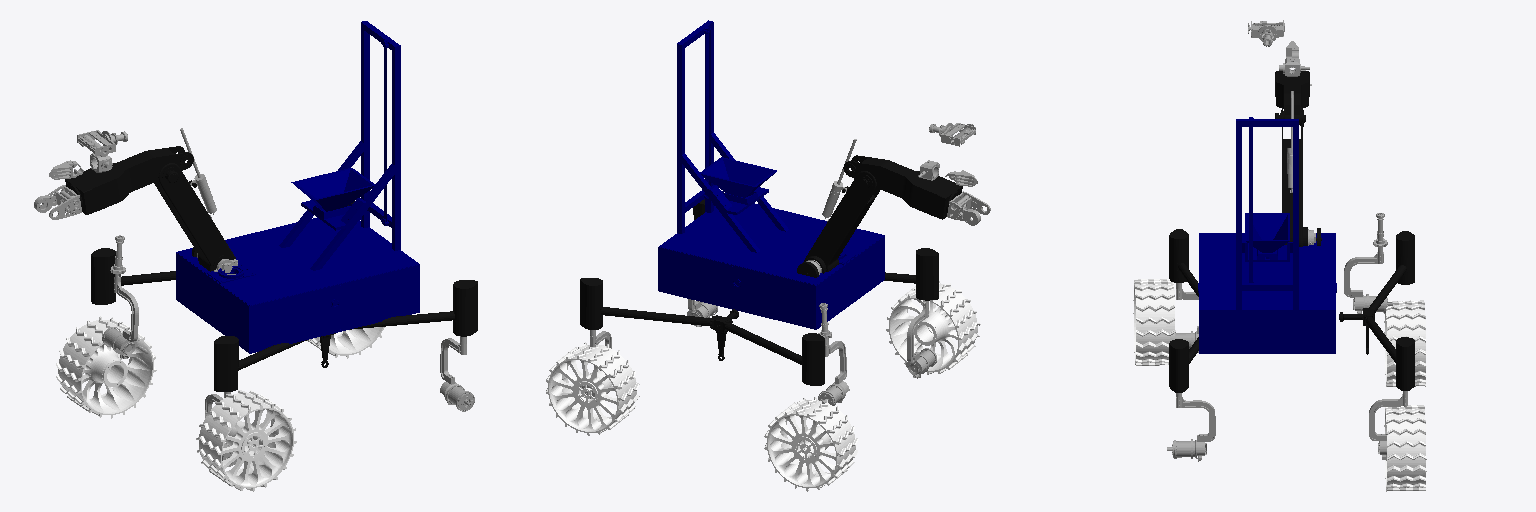
--- What the picture shows (computed from the rendered views, not written in the file) ---
The picture shows the robot from 3 angles, left to right: view 1: azimuth 30°, elevation 25°; view 2: azimuth 150°, elevation 25°; view 3: azimuth 270°, elevation 25°; orthographic projection.
Model kerby with 20 links and 19 joints (6 revolute, 10 continuous, 2 prismatic, 1 fixed), rooted at base_link, posed all joints at 0.
Visible links, largest first — view 1: base_link, wheel2_1, wheel3_1, pivot_gauche_1, hd_link3_1, hd_link2_1, pivot_droit_1, steering_4, steering_2, wheel4_1, hd_link4_1, hd_link6_1 (+1 smaller); view 2: base_link, wheel3_1, wheel4_1, wheel2_1, pivot_droit_1, hd_link3_1, hd_link2_1, pivot_gauche_1, steering_4, steering_3, hd_link4_1, hd_link6_1; view 3: base_link, wheel4_1, wheel2_1, pivot_droit_1, wheel3_1, pivot_gauche_1, hd_link2_1, steering_4, hd_link3_1, steering_2, steering_1, hd_link6_1.
Link boxes in pixels (<box>): base_link: <box>176,21,419,353</box>; wheel2_1: <box>196,390,296,491</box>; wheel3_1: <box>56,316,156,418</box>; pivot_gauche_1: <box>214,280,477,391</box>; hd_link3_1: <box>65,146,193,214</box>; hd_link2_1: <box>154,163,235,271</box>; pivot_droit_1: <box>91,201,354,304</box>; steering_4: <box>102,235,138,358</box>; steering_2: <box>440,336,474,411</box>; wheel4_1: <box>307,327,384,358</box>; hd_link4_1: <box>34,185,81,219</box>; hd_link6_1: <box>77,130,127,156</box>; base_link: <box>658,20,884,329</box>; wheel3_1: <box>764,397,858,491</box>; wheel4_1: <box>546,342,639,435</box>; wheel2_1: <box>886,281,980,374</box>; pivot_droit_1: <box>580,278,824,385</box>; hd_link3_1: <box>843,155,962,219</box>; hd_link2_1: <box>797,171,880,277</box>; pivot_gauche_1: <box>693,199,938,300</box>; steering_4: <box>818,303,849,405</box>; steering_3: <box>906,300,936,378</box>; hd_link4_1: <box>947,191,990,225</box>; hd_link6_1: <box>929,123,975,146</box>; base_link: <box>1198,117,1336,353</box>; wheel4_1: <box>1384,405,1426,491</box>; wheel2_1: <box>1133,279,1175,365</box>; pivot_droit_1: <box>1339,231,1414,390</box>; wheel3_1: <box>1384,300,1426,386</box>; pivot_gauche_1: <box>1169,229,1198,392</box>; hd_link2_1: <box>1275,107,1321,246</box>; steering_4: <box>1344,213,1392,313</box>; hd_link3_1: <box>1275,71,1309,125</box>; steering_2: <box>1167,393,1215,461</box>; steering_1: <box>1369,391,1407,460</box>; hd_link6_1: <box>1248,20,1284,46</box>.
Bounding box of the posed robot: 1.42 × 0.97 × 1.29 m (x, y, z).
Meshes: 20 distinct files referenced, 19 mesh visuals loaded (19 binary STL); not drawn: 1 (reference not matched to a file when rendering).

The robot description file, URDF, robot "kerby":
<?xml version="1.0" ?>
<!-- =================================================================================== -->
<!-- |    This document was autogenerated by xacro from kerby.urdf.xacro               | -->
<!-- |    EDITING THIS FILE BY HAND IS NOT RECOMMENDED                                 | -->
<!-- =================================================================================== -->
<robot name="kerby">
  <material name="silver">
    <color rgba="0.700 0.700 0.700 1.000"/>
  </material>
  <material name="black">
    <color rgba="0.1 0.1 0.1 1.000"/>
  </material>
  <material name="white">
    <color rgba="1 1 1 1.000"/>
  </material>
  <material name="pink">
    <!-- <color rgba="1 0.4117 0.70588 1.000"/> -->
    <color rgba="1 1 1 1.000"/>
  </material>
  <material name="blue">
    <color rgba="0 0 0.5 1.000"/>
  </material>
  <transmission name="steering1_tran">
    <type>transmission_interface/SimpleTransmission</type>
    <joint name="steering1">
      <hardwareInterface>hardware_interface/EffortJointInterface</hardwareInterface>
    </joint>
    <actuator name="steering1_actr">
      <hardwareInterface>hardware_interface/EffortJointInterface</hardwareInterface>
      <mechanicalReduction>1</mechanicalReduction>
    </actuator>
  </transmission>
  <transmission name="steering2_tran">
    <type>transmission_interface/SimpleTransmission</type>
    <joint name="steering2">
      <hardwareInterface>hardware_interface/EffortJointInterface</hardwareInterface>
    </joint>
    <actuator name="steering2_actr">
      <hardwareInterface>hardware_interface/EffortJointInterface</hardwareInterface>
      <mechanicalReduction>1</mechanicalReduction>
    </actuator>
  </transmission>
  <transmission name="steering3_tran">
    <type>transmission_interface/SimpleTransmission</type>
    <joint name="steering3">
      <hardwareInterface>hardware_interface/EffortJointInterface</hardwareInterface>
    </joint>
    <actuator name="steering3_actr">
      <hardwareInterface>hardware_interface/EffortJointInterface</hardwareInterface>
      <mechanicalReduction>1</mechanicalReduction>
    </actuator>
  </transmission>
  <transmission name="steering4_tran">
    <type>transmission_interface/SimpleTransmission</type>
    <joint name="steering4">
      <hardwareInterface>hardware_interface/EffortJointInterface</hardwareInterface>
    </joint>
    <actuator name="steering4_actr">
      <hardwareInterface>hardware_interface/EffortJointInterface</hardwareInterface>
      <mechanicalReduction>1</mechanicalReduction>
    </actuator>
  </transmission>
  <transmission name="driving4_tran">
    <type>transmission_interface/SimpleTransmission</type>
    <joint name="driving4">
      <hardwareInterface>hardware_interface/EffortJointInterface</hardwareInterface>
    </joint>
    <actuator name="driving4_actr">
      <hardwareInterface>hardware_interface/EffortJointInterface</hardwareInterface>
      <mechanicalReduction>1</mechanicalReduction>
    </actuator>
  </transmission>
  <transmission name="driving1_tran">
    <type>transmission_interface/SimpleTransmission</type>
    <joint name="driving1">
      <hardwareInterface>hardware_interface/EffortJointInterface</hardwareInterface>
    </joint>
    <actuator name="driving1_actr">
      <hardwareInterface>hardware_interface/EffortJointInterface</hardwareInterface>
      <mechanicalReduction>1</mechanicalReduction>
    </actuator>
  </transmission>
  <transmission name="driving3_tran">
    <type>transmission_interface/SimpleTransmission</type>
    <joint name="driving3">
      <hardwareInterface>hardware_interface/EffortJointInterface</hardwareInterface>
    </joint>
    <actuator name="driving3_actr">
      <hardwareInterface>hardware_interface/EffortJointInterface</hardwareInterface>
      <mechanicalReduction>1</mechanicalReduction>
    </actuator>
  </transmission>
  <transmission name="driving2_tran">
    <type>transmission_interface/SimpleTransmission</type>
    <joint name="driving2">
      <hardwareInterface>hardware_interface/EffortJointInterface</hardwareInterface>
    </joint>
    <actuator name="driving2_actr">
      <hardwareInterface>hardware_interface/EffortJointInterface</hardwareInterface>
      <mechanicalReduction>1</mechanicalReduction>
    </actuator>
  </transmission>
  <transmission name="joint2_tran">
    <type>transmission_interface/SimpleTransmission</type>
    <joint name="joint2">
      <hardwareInterface>hardware_interface/EffortJointInterface</hardwareInterface>
    </joint>
    <actuator name="joint2_actr">
      <hardwareInterface>hardware_interface/EffortJointInterface</hardwareInterface>
      <mechanicalReduction>1</mechanicalReduction>
    </actuator>
  </transmission>
  <transmission name="joint3_tran">
    <type>transmission_interface/SimpleTransmission</type>
    <joint name="joint3">
      <hardwareInterface>hardware_interface/EffortJointInterface</hardwareInterface>
    </joint>
    <actuator name="joint3_actr">
      <hardwareInterface>hardware_interface/EffortJointInterface</hardwareInterface>
      <mechanicalReduction>1</mechanicalReduction>
    </actuator>
  </transmission>
  <transmission name="joint4_tran">
    <type>transmission_interface/SimpleTransmission</type>
    <joint name="joint4">
      <hardwareInterface>hardware_interface/EffortJointInterface</hardwareInterface>
    </joint>
    <actuator name="joint4_actr">
      <hardwareInterface>hardware_interface/EffortJointInterface</hardwareInterface>
      <mechanicalReduction>1</mechanicalReduction>
    </actuator>
  </transmission>
  <transmission name="joint5_tran">
    <type>transmission_interface/SimpleTransmission</type>
    <joint name="joint5">
      <hardwareInterface>hardware_interface/EffortJointInterface</hardwareInterface>
    </joint>
    <actuator name="joint5_actr">
      <hardwareInterface>hardware_interface/EffortJointInterface</hardwareInterface>
      <mechanicalReduction>1</mechanicalReduction>
    </actuator>
  </transmission>
  <transmission name="joint6_tran">
    <type>transmission_interface/SimpleTransmission</type>
    <joint name="joint6">
      <hardwareInterface>hardware_interface/EffortJointInterface</hardwareInterface>
    </joint>
    <actuator name="joint6_actr">
      <hardwareInterface>hardware_interface/EffortJointInterface</hardwareInterface>
      <mechanicalReduction>1</mechanicalReduction>
    </actuator>
  </transmission>
  <transmission name="finger1_tran">
    <type>transmission_interface/SimpleTransmission</type>
    <joint name="finger1">
      <hardwareInterface>hardware_interface/EffortJointInterface</hardwareInterface>
    </joint>
    <actuator name="finger1_actr">
      <hardwareInterface>hardware_interface/EffortJointInterface</hardwareInterface>
      <mechanicalReduction>1</mechanicalReduction>
    </actuator>
  </transmission>
  <transmission name="finger2_tran">
    <type>transmission_interface/SimpleTransmission</type>
    <joint name="finger2">
      <hardwareInterface>hardware_interface/EffortJointInterface</hardwareInterface>
    </joint>
    <actuator name="finger2_actr">
      <hardwareInterface>hardware_interface/EffortJointInterface</hardwareInterface>
      <mechanicalReduction>1</mechanicalReduction>
    </actuator>
  </transmission>
  <transmission name="R�volution 30_tran">
    <type>transmission_interface/SimpleTransmission</type>
    <joint name="R�volution 30">
      <hardwareInterface>hardware_interface/EffortJointInterface</hardwareInterface>
    </joint>
    <actuator name="R�volution 30_actr">
      <hardwareInterface>hardware_interface/EffortJointInterface</hardwareInterface>
      <mechanicalReduction>1</mechanicalReduction>
    </actuator>
  </transmission>
  <transmission name="R�volution 31_tran">
    <type>transmission_interface/SimpleTransmission</type>
    <joint name="R�volution 31">
      <hardwareInterface>hardware_interface/EffortJointInterface</hardwareInterface>
    </joint>
    <actuator name="R�volution 31_actr">
      <hardwareInterface>hardware_interface/EffortJointInterface</hardwareInterface>
      <mechanicalReduction>1</mechanicalReduction>
    </actuator>
  </transmission>
  <transmission name="R�volution 32_tran">
    <type>transmission_interface/SimpleTransmission</type>
    <joint name="R�volution 32">
      <hardwareInterface>hardware_interface/EffortJointInterface</hardwareInterface>
    </joint>
    <actuator name="R�volution 32_actr">
      <hardwareInterface>hardware_interface/EffortJointInterface</hardwareInterface>
      <mechanicalReduction>1</mechanicalReduction>
    </actuator>
  </transmission>
  <gazebo>
    <plugin filename="libgazebo_ros_control.so" name="control"/>
  </gazebo>
  <gazebo reference="base_link">
    <material>Gazebo/Silver</material>
    <mu1>0.2</mu1>
    <mu2>0.2</mu2>
    <selfCollide>true</selfCollide>
    <gravity>true</gravity>
  </gazebo>
  <gazebo reference="steering_1">
    <material>Gazebo/Silver</material>
    <mu1>0.2</mu1>
    <mu2>0.2</mu2>
    <selfCollide>true</selfCollide>
  </gazebo>
  <gazebo reference="steering_2">
    <material>Gazebo/Silver</material>
    <mu1>0.2</mu1>
    <mu2>0.2</mu2>
    <selfCollide>true</selfCollide>
  </gazebo>
  <gazebo reference="steering_3">
    <material>Gazebo/Silver</material>
    <mu1>0.2</mu1>
    <mu2>0.2</mu2>
    <selfCollide>true</selfCollide>
  </gazebo>
  <gazebo reference="steering_4">
    <material>Gazebo/Silver</material>
    <mu1>0.2</mu1>
    <mu2>0.2</mu2>
    <selfCollide>true</selfCollide>
  </gazebo>
  <gazebo reference="wheel3_1">
    <material>Gazebo/Silver</material>
    <mu1>0.2</mu1>
    <mu2>0.2</mu2>
    <selfCollide>true</selfCollide>
  </gazebo>
  <gazebo reference="wheel4_1">
    <material>Gazebo/Silver</material>
    <mu1>0.2</mu1>
    <mu2>0.2</mu2>
    <selfCollide>true</selfCollide>
  </gazebo>
  <gazebo reference="wheel2_1">
    <material>Gazebo/Silver</material>
    <mu1>0.2</mu1>
    <mu2>0.2</mu2>
    <selfCollide>true</selfCollide>
  </gazebo>
  <gazebo reference="wheel1_1">
    <material>Gazebo/Silver</material>
    <mu1>0.2</mu1>
    <mu2>0.2</mu2>
    <selfCollide>true</selfCollide>
  </gazebo>
  <gazebo reference="hd_link2_1">
    <material>Gazebo/Silver</material>
    <mu1>0.2</mu1>
    <mu2>0.2</mu2>
    <selfCollide>true</selfCollide>
  </gazebo>
  <gazebo reference="hd_link3_1">
    <material>Gazebo/Silver</material>
    <mu1>0.2</mu1>
    <mu2>0.2</mu2>
    <selfCollide>true</selfCollide>
  </gazebo>
  <gazebo reference="hd_link4_1">
    <material>Gazebo/Silver</material>
    <mu1>0.2</mu1>
    <mu2>0.2</mu2>
    <selfCollide>true</selfCollide>
  </gazebo>
  <gazebo reference="hd_link5_1">
    <material>Gazebo/Silver</material>
    <mu1>0.2</mu1>
    <mu2>0.2</mu2>
    <selfCollide>true</selfCollide>
  </gazebo>
  <gazebo reference="hd_link6_1">
    <material>Gazebo/Silver</material>
    <mu1>0.2</mu1>
    <mu2>0.2</mu2>
    <selfCollide>true</selfCollide>
  </gazebo>
  <gazebo reference="hd_finger2_1">
    <material>Gazebo/Silver</material>
    <mu1>0.2</mu1>
    <mu2>0.2</mu2>
    <selfCollide>true</selfCollide>
  </gazebo>
  <gazebo reference="hd_finger1_1">
    <material>Gazebo/Silver</material>
    <mu1>0.2</mu1>
    <mu2>0.2</mu2>
    <selfCollide>true</selfCollide>
  </gazebo>
  <gazebo reference="hd_motor_j3_1">
    <material>Gazebo/Silver</material>
    <mu1>0.2</mu1>
    <mu2>0.2</mu2>
    <selfCollide>true</selfCollide>
  </gazebo>
  <gazebo reference="pivot_droit_1">
    <material>Gazebo/Silver</material>
    <mu1>0.2</mu1>
    <mu2>0.2</mu2>
    <selfCollide>true</selfCollide>
  </gazebo>
  <gazebo reference="pivot_gauche_1">
    <material>Gazebo/Silver</material>
    <mu1>0.2</mu1>
    <mu2>0.2</mu2>
    <selfCollide>true</selfCollide>
  </gazebo>
  <gazebo reference="hd_link1_1">
    <material>Gazebo/Silver</material>
    <mu1>0.2</mu1>
    <mu2>0.2</mu2>
    <selfCollide>true</selfCollide>
  </gazebo>
  <!-- allows to scale all max velocities down at once -->
  <link name="base_link">
    <inertial>
      <origin rpy="0 0 0" xyz="0.05362398614035063 0.01974617698532859 0.037120813316089823"/>
      <mass value="6.257043020156179"/>
      <inertia ixx="0.340644" ixy="0.000337" ixz="-0.092411" iyy="0.466541" iyz="0.00055" izz="0.402706"/>
    </inertial>
    <visual>
      <origin rpy="0 0 0" xyz="0 0 0"/>
      <geometry>
        <mesh filename="package://kerby_description/meshes/base_link.stl" scale="0.001 0.001 0.001"/>
      </geometry>
      <material name="blue"/>
    </visual>
    <collision>
      <origin rpy="0 0 0" xyz="0 0 0"/>
      <geometry>
        <mesh filename="package://kerby_description/meshes/base_link.stl" scale="0.001 0.001 0.001"/>
      </geometry>
    </collision>
  </link>
  <link name="steering_1">
    <inertial>
      <origin rpy="0 0 0" xyz="-0.01189644601781037 -0.036027929982466456 -0.2129618322901442"/>
      <mass value="0.3543584805415501"/>
      <inertia ixx="0.003558" ixy="2e-06" ixz="-0.000178" iyy="0.003121" iyz="-0.000206" izz="0.000562"/>
    </inertial>
    <visual>
      <origin rpy="0 0 0" xyz="-0.421384 -0.393882 0.063562"/>
      <geometry>
        <mesh filename="package://kerby_description/meshes/steering_1.stl" scale="0.001 0.001 0.001"/>
      </geometry>
      <material name="silver"/>
    </visual>
    <collision>
      <origin rpy="0 0 0" xyz="-0.421384 -0.393882 0.063562"/>
      <geometry>
        <mesh filename="package://kerby_description/meshes/steering_1.stl" scale="0.001 0.001 0.001"/>
      </geometry>
    </collision>
  </link>
  <link name="steering_2">
    <inertial>
      <origin rpy="0 0 0" xyz="0.011896575272170529 0.03602765244982159 -0.21296112839152875"/>
      <mass value="0.3543584805415501"/>
      <inertia ixx="0.003558" ixy="2e-06" ixz="0.000178" iyy="0.003121" iyz="0.000206" izz="0.000562"/>
    </inertial>
    <visual>
      <origin rpy="0 0 0" xyz="-0.42341 0.353934 0.012408"/>
      <geometry>
        <mesh filename="package://kerby_description/meshes/steering_2.stl" scale="0.001 0.001 0.001"/>
      </geometry>
      <material name="silver"/>
    </visual>
    <collision>
      <origin rpy="0 0 0" xyz="-0.42341 0.353934 0.012408"/>
      <geometry>
        <mesh filename="package://kerby_description/meshes/steering_2.stl" scale="0.001 0.001 0.001"/>
      </geometry>
    </collision>
  </link>
  <link name="steering_3">
    <inertial>
      <origin rpy="0 0 0" xyz="0.011896795779964109 0.03602765244982109 -0.21296183229014454"/>
      <mass value="0.3543584805415501"/>
      <inertia ixx="0.003558" ixy="2e-06" ixz="0.000178" iyy="0.003121" iyz="0.000206" izz="0.000562"/>
    </inertial>
    <visual>
      <origin rpy="0 0 0" xyz="0.408171 0.353934 0.063562"/>
      <geometry>
        <mesh filename="package://kerby_description/meshes/steering_3.stl" scale="0.001 0.001 0.001"/>
      </geometry>
      <material name="silver"/>
    </visual>
    <collision>
      <origin rpy="0 0 0" xyz="0.408171 0.353934 0.063562"/>
      <geometry>
        <mesh filename="package://kerby_description/meshes/steering_3.stl" scale="0.001 0.001 0.001"/>
      </geometry>
    </collision>
  </link>
  <link name="steering_4">
    <inertial>
      <origin rpy="0 0 0" xyz="-0.011896225510015512 -0.036027929982466234 -0.21296112839152861"/>
      <mass value="0.3543584805415501"/>
      <inertia ixx="0.003558" ixy="2e-06" ixz="-0.000178" iyy="0.003121" iyz="-0.000206" izz="0.000562"/>
    </inertial>
    <visual>
      <origin rpy="0 0 0" xyz="0.410197 -0.393882 0.012408"/>
      <geometry>
        <mesh filename="package://kerby_description/meshes/steering_4.stl" scale="0.001 0.001 0.001"/>
      </geometry>
      <material name="silver"/>
    </visual>
    <collision>
      <origin rpy="0 0 0" xyz="0.410197 -0.393882 0.012408"/>
      <geometry>
        <mesh filename="package://kerby_description/meshes/steering_4.stl" scale="0.001 0.001 0.001"/>
      </geometry>
    </collision>
  </link>
  <link name="wheel3_1">
    <inertial>
      <origin rpy="0 0 0" xyz="0.0003394916280188287 -0.010196510227617639 -2.006330920018007e-05"/>
      <mass value="1.592763813314383"/>
      <inertia ixx="0.010896" ixy="-0.000257" ixz="-0.0" iyy="0.018605" iyz="1.6e-05" izz="0.010887"/>
    </inertial>
    <visual>
      <origin rpy="0 0 0" xyz="0.42733 -0.410572 0.281864"/>
      <geometry>
        <mesh filename="package://kerby_description/meshes/wheel3_1.stl" scale="0.001 0.001 0.001"/>
      </geometry>
      <material name="pink"/>
    </visual>
    <collision>
      <origin rpy="0 0 0" xyz="0.42733 -0.410572 0.281864"/>
      <geometry>
        <mesh filename="package://kerby_description/meshes/wheel3_1.stl" scale="0.001 0.001 0.001"/>
      </geometry>
    </collision>
  </link>
  <link name="wheel4_1">
    <inertial>
      <origin rpy="0 0 0" xyz="0.0003392711202230836 -0.010196510227618527 -1.9767207815879484e-05"/>
      <mass value="1.592763813314383"/>
      <inertia ixx="0.010896" ixy="-0.000257" ixz="-0.0" iyy="0.018605" iyz="1.6e-05" izz="0.010887"/>
    </inertial>
    <visual>
      <origin rpy="0 0 0" xyz="-0.404251 -0.410572 0.333019"/>
      <geometry>
        <mesh filename="package://kerby_description/meshes/wheel4_1.stl" scale="0.001 0.001 0.001"/>
      </geometry>
      <material name="pink"/>
    </visual>
    <collision>
      <origin rpy="0 0 0" xyz="-0.404251 -0.410572 0.333019"/>
      <geometry>
        <mesh filename="package://kerby_description/meshes/wheel4_1.stl" scale="0.001 0.001 0.001"/>
      </geometry>
    </collision>
  </link>
  <link name="wheel2_1">
    <inertial>
      <origin rpy="0 0 0" xyz="-0.0003399213580693172 0.010197232694972913 -1.9767207816323573e-05"/>
      <mass value="1.592763813314383"/>
      <inertia ixx="0.010896" ixy="-0.000257" ixz="0.0" iyy="0.018605" iyz="-1.6e-05" izz="0.010887"/>
    </inertial>
    <visual>
      <origin rpy="0 0 0" xyz="0.391037 0.370625 0.333019"/>
      <geometry>
        <mesh filename="package://kerby_description/meshes/wheel2_1.stl" scale="0.001 0.001 0.001"/>
      </geometry>
      <material name="pink"/>
    </visual>
    <collision>
      <origin rpy="0 0 0" xyz="0.391037 0.370625 0.333019"/>
      <geometry>
        <mesh filename="package://kerby_description/meshes/wheel2_1.stl" scale="0.001 0.001 0.001"/>
      </geometry>
    </collision>
  </link>
  <link name="wheel1_1">
    <inertial>
      <origin rpy="0 0 0" xyz="-0.0003391418658636458 0.010197232694973468 -2.0063309200568646e-05"/>
      <mass value="1.592763813314383"/>
      <inertia ixx="0.010896" ixy="-0.000257" ixz="0.0" iyy="0.018605" iyz="-1.6e-05" izz="0.010887"/>
    </inertial>
    <visual>
      <origin rpy="0 0 0" xyz="-0.440543 0.370625 0.281864"/>
      <geometry>
        <mesh filename="package://kerby_description/meshes/wheel1_1.stl" scale="0.001 0.001 0.001"/>
      </geometry>
      <material name="pink"/>
    </visual>
    <collision>
      <origin rpy="0 0 0" xyz="-0.440543 0.370625 0.281864"/>
      <geometry>
        <mesh filename="package://kerby_description/meshes/wheel1_1.stl" scale="0.001 0.001 0.001"/>
      </geometry>
    </collision>
  </link>
  <link name="hd_link2_1">
    <inertial>
      <origin rpy="0 0 0" xyz="0.007428383283974271 0.060838810370171845 0.14389716626077925"/>
      <mass value="2.4452075265656514"/>
      <inertia ixx="0.038674" ixy="7.8e-05" ixz="-0.00107" iyy="0.03827" iyz="0.001607" izz="0.003075"/>
    </inertial>
    <visual>
      <origin rpy="0 0 0" xyz="0.228643 0.037726 -0.152484"/>
      <geometry>
        <mesh filename="package://kerby_description/meshes/hd_link2_1.stl" scale="0.001 0.001 0.001"/>
      </geometry>
      <material name="black"/>
    </visual>
    <collision>
      <origin rpy="0 0 0" xyz="0.228643 0.037726 -0.152484"/>
      <geometry>
        <mesh filename="package://kerby_description/meshes/hd_link2_1.stl" scale="0.001 0.001 0.001"/>
      </geometry>
    </collision>
  </link>
  <link name="hd_link3_1">
    <inertial>
      <origin rpy="0 0 0" xyz="-0.18506431602380205 -0.028188690485378982 0.03515465538516083"/>
      <mass value="0.3993227194340243"/>
      <inertia ixx="0.000842" ixy="4.5e-05" ixz="0.000238" iyy="0.00625" iyz="-5e-06" izz="0.00637"/>
    </inertial>
    <visual>
      <origin rpy="0 0 0" xyz="0.2165 -0.050274 -0.552396"/>
      <geometry>
        <mesh filename="package://kerby_description/meshes/hd_link3_1.stl" scale="0.001 0.001 0.001"/>
      </geometry>
      <material name="black"/>
    </visual>
    <collision>
      <origin rpy="0 0 0" xyz="0.2165 -0.050274 -0.552396"/>
      <geometry>
        <mesh filename="package://kerby_description/meshes/hd_link3_1.stl" scale="0.001 0.001 0.001"/>
      </geometry>
    </collision>
  </link>
  <link name="hd_link4_1">
    <inertial>
      <origin rpy="0 0 0" xyz="-0.02651321084424607 0.002896584112952065 -0.0003217450612928996"/>
      <mass value="0.16590781468918114"/>
      <inertia ixx="0.000197" ixy="3.9e-05" ixz="4e-06" iyy="0.000349" iyz="5e-06" izz="0.000476"/>
    </inertial>
    <visual>
      <origin rpy="0 0 0" xyz="0.531508 -0.02063 -0.590536"/>
      <geometry>
        <mesh filename="package://kerby_description/meshes/hd_link4_1.stl" scale="0.001 0.001 0.001"/>
      </geometry>
      <material name="silver"/>
    </visual>
    <collision>
      <origin rpy="0 0 0" xyz="0.531508 -0.02063 -0.590536"/>
      <geometry>
        <mesh filename="package://kerby_description/meshes/hd_link4_1.stl" scale="0.001 0.001 0.001"/>
      </geometry>
    </collision>
  </link>
  <link name="hd_link5_1">
    <inertial>
      <origin rpy="0 0 0" xyz="-0.0032697164246294763 0.03846028201984416 -9.33050693235904e-05"/>
      <mass value="0.06877842327462745"/>
      <inertia ixx="4.9e-05" ixy="1e-06" ixz="-0.0" iyy="2.9e-05" iyz="0.0" izz="4.3e-05"/>
    </inertial>
    <visual>
      <origin rpy="0 0 0" xyz="0.625201 0.02137 -0.591679"/>
      <geometry>
        <mesh filename="package://kerby_description/meshes/hd_link5_1.stl" scale="0.001 0.001 0.001"/>
      </geometry>
      <material name="silver"/>
    </visual>
    <collision>
      <origin rpy="0 0 0" xyz="0.625201 0.02137 -0.591679"/>
      <geometry>
        <mesh filename="package://kerby_description/meshes/hd_link5_1.stl" scale="0.001 0.001 0.001"/>
      </geometry>
    </collision>
  </link>
  <link name="hd_link6_1">
    <inertial>
      <origin rpy="0 0 0" xyz="-0.03519419436746607 -0.0007187354689699374 0.0009221743273718497"/>
      <mass value="0.11153016933793788"/>
      <inertia ixx="0.000117" ixy="-2e-06" ixz="1e-06" iyy="0.000166" iyz="-1e-06" izz="0.000263"/>
    </inertial>
    <visual>
      <origin rpy="0 0 0" xyz="0.652201 -0.02059 -0.591797"/>
      <geometry>
        <mesh filename="package://kerby_description/meshes/hd_link6_1.stl" scale="0.001 0.001 0.001"/>
      </geometry>
      <material name="silver"/>
    </visual>
    <collision>
      <origin rpy="0 0 0" xyz="0.652201 -0.02059 -0.591797"/>
      <geometry>
        <mesh filename="package://kerby_description/meshes/hd_link6_1.stl" scale="0.001 0.001 0.001"/>
      </geometry>
    </collision>
  </link>
  <link name="hd_finger2_1">
    <inertial>
      <origin rpy="0 0 0" xyz="0.47666706754454413 -0.7361417133269437 -0.01622358994727202"/>
      <mass value="0.025342855198124774"/>
      <inertia ixx="4e-06" ixy="-2e-06" ixz="-2e-06" iyy="1.8e-05" iyz="-0.0" izz="1.6e-05"/>
    </inertial>
    <visual>
      <origin rpy="0 0 0" xyz="1.231487 -0.764267 -0.611515"/>
      <geometry>
        <mesh filename="package://kerby_description/meshes/hd_finger2_1.stl" scale="0.001 0.001 0.001"/>
      </geometry>
      <material name="silver"/>
    </visual>
    <collision>
      <origin rpy="0 0 0" xyz="1.231487 -0.764267 -0.611515"/>
      <geometry>
        <mesh filename="package://kerby_description/meshes/hd_finger2_1.stl" scale="0.001 0.001 0.001"/>
      </geometry>
    </collision>
  </link>
  <link name="hd_finger1_1">
    <inertial>
      <origin rpy="0 0 0" xyz="0.4527983426832546 -0.7504874421753438 -0.06638458975098571"/>
      <mass value="0.025342855198124774"/>
      <inertia ixx="4e-06" ixy="2e-06" ixz="2e-06" iyy="1.8e-05" iyz="-0.0" izz="1.6e-05"/>
    </inertial>
    <visual>
      <origin rpy="0 0 0" xyz="1.208101 -0.764188 -0.655601"/>
      <geometry>
        <mesh filename="package://kerby_description/meshes/hd_finger1_1.stl" scale="0.001 0.001 0.001"/>
      </geometry>
      <material name="silver"/>
    </visual>
    <collision>
      <origin rpy="0 0 0" xyz="1.208101 -0.764188 -0.655601"/>
      <geometry>
        <mesh filename="package://kerby_description/meshes/hd_finger1_1.stl" scale="0.001 0.001 0.001"/>
      </geometry>
    </collision>
  </link>
  <link name="hd_motor_j3_1">
    <inertial>
      <origin rpy="0 0 0" xyz="-0.3146867524268133 0.14188869096939155 0.25591208107402835"/>
      <mass value="0.11925838600046076"/>
      <inertia ixx="0.00051" ixy="-0.0" ixz="-8.7e-05" iyy="0.000525" iyz="-0.0" izz="2.9e-05"/>
    </inertial>
    <visual>
      <origin rpy="0 0 0" xyz="-0.173508 0.122615 -0.149258"/>
      <geometry>
        <mesh filename="package://kerby_description/meshes/hd_motor_j3_1.stl" scale="0.001 0.001 0.001"/>
      </geometry>
      <material name="silver"/>
    </visual>
    <collision>
      <origin rpy="0 0 0" xyz="-0.173508 0.122615 -0.149258"/>
      <geometry>
        <mesh filename="package://kerby_description/meshes/hd_motor_j3_1.stl" scale="0.001 0.001 0.001"/>
      </geometry>
    </collision>
  </link>
  <link name="pivot_droit_1">
    <inertial>
      <origin rpy="0 0 0" xyz="0.0009668399350314201 0.11623489359260658 0.013375805290350871"/>
      <mass value="1.6615144825592312"/>
      <inertia ixx="0.007103" ixy="-5.6e-05" ixz="0.013196" iyy="0.220618" iyz="-0.000815" izz="0.220639"/>
    </inertial>
    <visual>
      <origin rpy="0 0 0" xyz="-0.006607 -0.250474 0.021516"/>
      <geometry>
        <mesh filename="package://kerby_description/meshes/pivot_droit_1.stl" scale="0.001 0.001 0.001"/>
      </geometry>
      <material name="black"/>
    </visual>
    <collision>
      <origin rpy="0 0 0" xyz="-0.006607 -0.250474 0.021516"/>
      <geometry>
        <mesh filename="package://kerby_description/meshes/pivot_droit_1.stl" scale="0.001 0.001 0.001"/>
      </geometry>
    </collision>
  </link>
  <link name="pivot_gauche_1">
    <inertial>
      <origin rpy="0 0 0" xyz="-0.0009674901728771402 -0.11623517112525206 0.013375805290350576"/>
      <mass value="1.6615144825592312"/>
      <inertia ixx="0.007103" ixy="-5.6e-05" ixz="-0.013196" iyy="0.220618" iyz="0.000815" izz="0.220639"/>
    </inertial>
    <visual>
      <origin rpy="0 0 0" xyz="-0.006607 0.210526 0.021516"/>
      <geometry>
        <mesh filename="package://kerby_description/meshes/pivot_gauche_1.stl" scale="0.001 0.001 0.001"/>
      </geometry>
      <material name="black"/>
    </visual>
    <collision>
      <origin rpy="0 0 0" xyz="-0.006607 0.210526 0.021516"/>
      <geometry>
        <mesh filename="package://kerby_description/meshes/pivot_gauche_1.stl" scale="0.001 0.001 0.001"/>
      </geometry>
    </collision>
  </link>
  <link name="hd_link1_1">
    <inertial>
      <origin rpy="0 0 0" xyz="0.0001907779404468346 0.014210297972432132 0.0484216801173539"/>
      <mass value="0.3391136619658369"/>
      <inertia ixx="0.001801" ixy="1e-05" ixz="-8e-06" iyy="0.001217" iyz="-0.000142" izz="0.00078"/>
    </inertial>
    <visual>
      <origin rpy="0 0 0" xyz="0.228643 -0.019974 -0.035484"/>
      <geometry>
        <mesh filename="package://kerby_description/meshes/hd_link1_1.stl" scale="0.001 0.001 0.001"/>
      </geometry>
      <material name="silver"/>
    </visual>
    <collision>
      <origin rpy="0 0 0" xyz="0.228643 -0.019974 -0.035484"/>
      <geometry>
        <mesh filename="package://kerby_description/meshes/hd_link1_1.stl" scale="0.001 0.001 0.001"/>
      </geometry>
    </collision>
  </link>
  <joint name="steering1" type="continuous">
    <origin rpy="0 0 0" xyz="0.414777 0.143408 -0.042046"/>
    <parent link="pivot_droit_1"/>
    <child link="steering_1"/>
    <axis xyz="-0.061399 0.0 -0.998113"/>
  </joint>
  <joint name="steering2" type="continuous">
    <origin rpy="0 0 0" xyz="0.416803 -0.143408 0.009108"/>
    <parent link="pivot_gauche_1"/>
    <child link="steering_2"/>
    <axis xyz="-0.061399 0.0 0.998113"/>
  </joint>
  <joint name="steering3" type="continuous">
    <origin rpy="0 0 0" xyz="-0.414778 -0.143408 -0.042046"/>
    <parent link="pivot_gauche_1"/>
    <child link="steering_3"/>
    <axis xyz="0.061399 -0.0 -0.998113"/>
  </joint>
  <joint name="steering4" type="continuous">
    <origin rpy="0 0 0" xyz="-0.416804 0.143408 0.009108"/>
    <parent link="pivot_droit_1"/>
    <child link="steering_4"/>
    <axis xyz="0.061399 -0.0 0.998113"/>
  </joint>
  <joint name="driving4" type="continuous">
    <origin rpy="0 0 0" xyz="-0.017133 0.01669 -0.269456"/>
    <parent link="steering_4"/>
    <child link="wheel3_1"/>
    <axis xyz="-0.033267 0.999444 0.002046"/>
  </joint>
  <joint name="driving1" type="continuous">
    <origin rpy="0 0 0" xyz="-0.017133 0.01669 -0.269457"/>
    <parent link="steering_1"/>
    <child link="wheel4_1"/>
    <axis xyz="-0.033267 0.999444 0.002046"/>
  </joint>
  <joint name="driving3" type="continuous">
    <origin rpy="0 0 0" xyz="0.017134 -0.016691 -0.269457"/>
    <parent link="steering_3"/>
    <child link="wheel2_1"/>
    <axis xyz="0.033267 -0.999444 0.002046"/>
  </joint>
  <joint name="driving2" type="continuous">
    <origin rpy="0 0 0" xyz="0.017133 -0.016691 -0.269456"/>
    <parent link="steering_2"/>
    <child link="wheel1_1"/>
    <axis xyz="0.033267 -0.999444 0.002046"/>
  </joint>
  <joint name="joint2" type="revolute">
    <origin rpy="0 0 0" xyz="0.0 -0.0577 0.117"/>
    <parent link="hd_link1_1"/>
    <child link="hd_link2_1"/>
    <axis xyz="0.0 1.0 0.0"/>
    <limit effort="100.0" lower="-3.141592653589793" upper="1.5707963267948966" velocity="0.10471975511965977"/>
  </joint>
  <joint name="joint3" type="revolute">
    <origin rpy="0 0 0" xyz="0.012143 0.088 0.399912"/>
    <parent link="hd_link2_1"/>
    <child link="hd_link3_1"/>
    <axis xyz="-0.0 1.0 0.0"/>
    <limit effort="100.0" lower="-0.7853981633974483" upper="0.7853981633974483" velocity="0.15707963267948966"/>
  </joint>
  <joint name="joint4" type="revolute">
    <origin rpy="0 0 0" xyz="-0.315008 -0.029644 0.03814"/>
    <parent link="hd_link3_1"/>
    <child link="hd_link4_1"/>
    <axis xyz="0.999926 0.0 -0.012203"/>
    <limit effort="100.0" lower="-6.283185307179586" upper="6.283185307179586" velocity="0.6283185307179586"/>
  </joint>
  <joint name="joint5" type="revolute">
    <origin rpy="0 0 0" xyz="-0.093693 -0.042 0.001143"/>
    <parent link="hd_link4_1"/>
    <child link="hd_link5_1"/>
    <axis xyz="0.0 -1.0 0.0"/>
    <limit effort="100.0" lower="-1.5707963267948966" upper="1.5707963267948966" velocity="0.20943951023931953"/>
  </joint>
  <joint name="joint6" type="revolute">
    <origin rpy="0 0 0" xyz="-0.027 0.04196 0.000118"/>
    <parent link="hd_link5_1"/>
    <child link="hd_link6_1"/>
    <axis xyz="-0.99999 -0.0 0.00438"/>
    <limit effort="100.0" lower="-3.141592653589793" upper="3.141592653589793" velocity="0.6283185307179586"/>
  </joint>
  <joint name="finger1" type="prismatic">
    <origin rpy="0 0 0" xyz="-0.579286 0.743677 0.019718"/>
    <parent link="hd_link6_1"/>
    <child link="hd_finger2_1"/>
    <axis xyz="0.007905 0.999801 0.018314"/>
    <limit effort="100" lower="0.0" upper="0.0" velocity="100"/>
  </joint>
  <joint name="finger2" type="prismatic">
    <origin rpy="0 0 0" xyz="-0.5559 0.743598 0.063804"/>
    <parent link="hd_link6_1"/>
    <child link="hd_finger1_1"/>
    <axis xyz="0.007905 0.999801 0.018314"/>
    <limit effort="100" lower="0.0" upper="0.0" velocity="100"/>
    <mimic joint="finger1" multiplier="-1" offset="0"/>
  </joint>
  <joint name="moteurJ3" type="fixed">
    <origin rpy="0 0 0" xyz="0.402151 -0.084889 -0.003226"/>
    <parent link="hd_link2_1"/>
    <child link="hd_motor_j3_1"/>
  </joint>
  <joint name="pivot_gauche" type="continuous">
    <origin rpy="0 0 0" xyz="0.006607 0.250474 -0.021516"/>
    <parent link="base_link"/>
    <child link="pivot_droit_1"/>
    <axis xyz="-0.0 1.0 0.0"/>
  </joint>
  <joint name="pivot_droit" type="continuous">
    <origin rpy="0 0 0" xyz="0.006607 -0.210526 -0.021516"/>
    <parent link="base_link"/>
    <child link="pivot_gauche_1"/>
    <axis xyz="0.0 1.0 0.0"/>
  </joint>
  <joint name="joint1" type="revolute">
    <origin rpy="0 0 0" xyz="-0.228643 0.019974 0.035484"/>
    <parent link="base_link"/>
    <child link="hd_link1_1"/>
    <axis xyz="-0.0 0.0 -1.0"/>
    <limit effort="100.0" lower="-4.71238898038469" upper="4.71238898038469" velocity="0.3141592653589793"/>
  </joint>
</robot>
